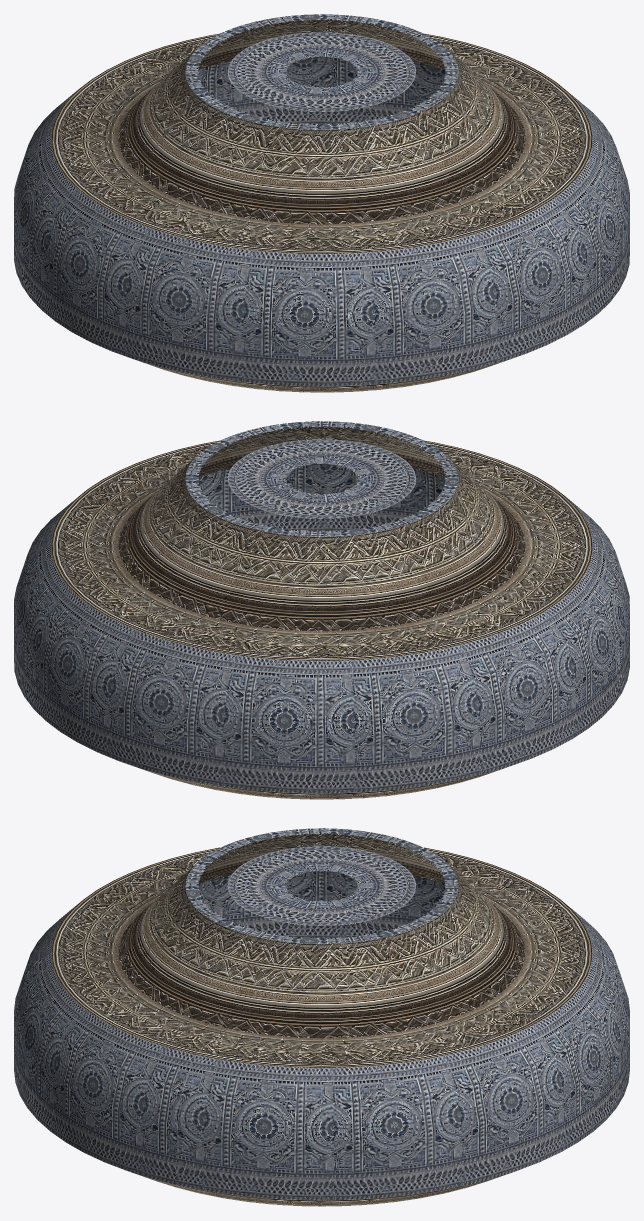
File: temple_usd_workflow_test.glb
3 renders of one model, top to bottom at view 1: azimuth 30°, elevation 25°; view 2: azimuth 150°, elevation 25°; view 3: azimuth 270°, elevation 25°, orthographic.
Parts seen in each view (by area): view 1: TEMPLE.009, TEMPLE.003; view 2: TEMPLE.009, TEMPLE.003; view 3: TEMPLE.009, TEMPLE.003.
Part boxes in pixels (x1=…): TEMPLE.009: x1=14, y1=14, x2=629, y2=386; TEMPLE.003: x1=51, y1=20, x2=592, y2=392; TEMPLE.009: x1=14, y1=421, x2=629, y2=793; TEMPLE.003: x1=51, y1=427, x2=592, y2=799; TEMPLE.009: x1=14, y1=828, x2=629, y2=1200; TEMPLE.003: x1=51, y1=834, x2=592, y2=1206.
Bounding box in the file's own units: 172 × 70.35 × 172.
Materials: 7 (4 with a texture image).
